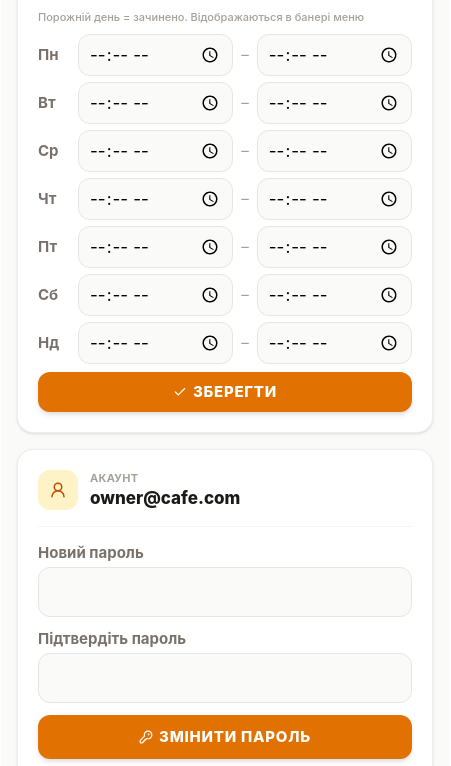
Scenario: AdminProfile — change password › changes the password successfully
(page scrolled)
Type "new-secure-password" into the password field labelled "Новий пароль" at (225, 592), box [38, 567, 412, 617]
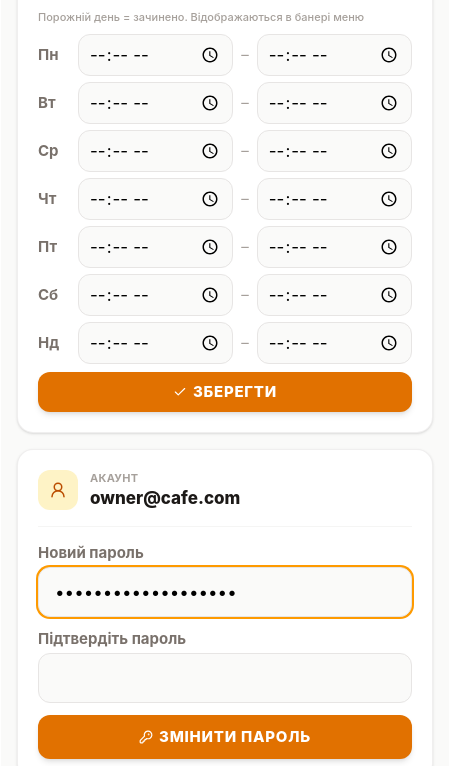
Type "new-secure-password" into the password field labelled "Підтвердіть пароль" at (225, 678), box [38, 653, 412, 703]
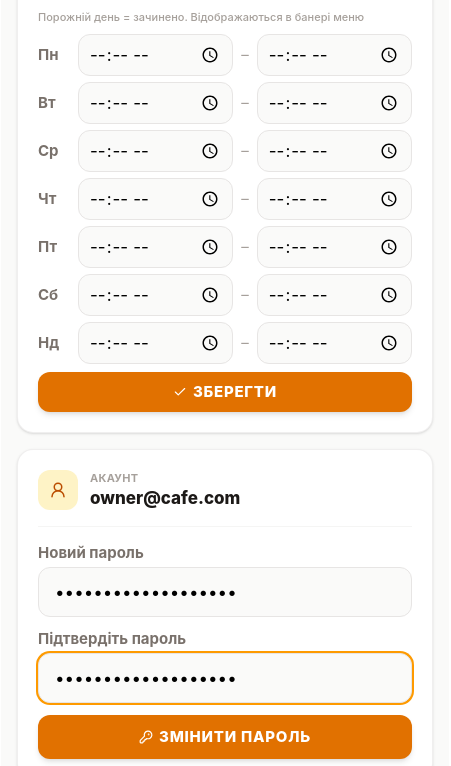
Click the button "Змінити пароль" at (225, 737), box [38, 715, 412, 759]
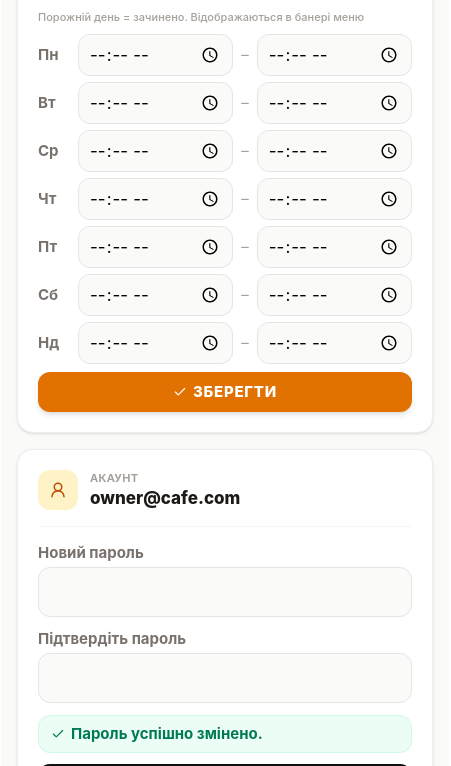
Expected: the text "Пароль успішно змінено." is shown, [71, 724, 263, 744]
